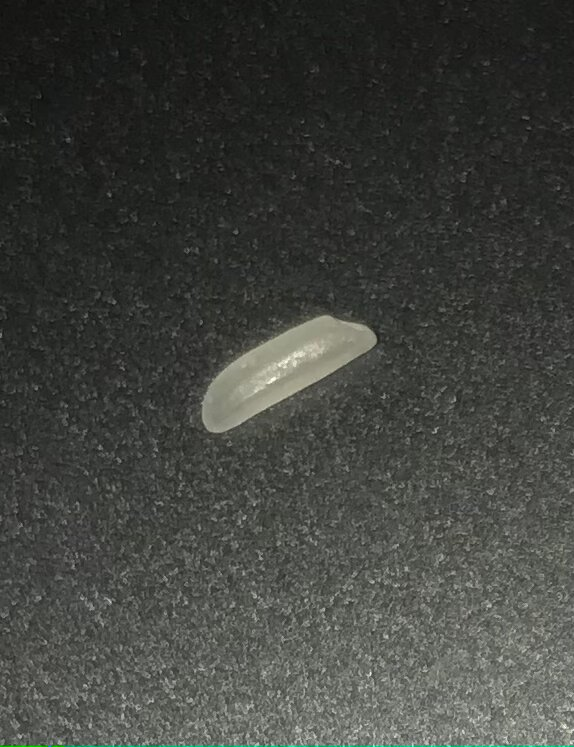Gao Long Lai: (200, 311, 380, 443)
